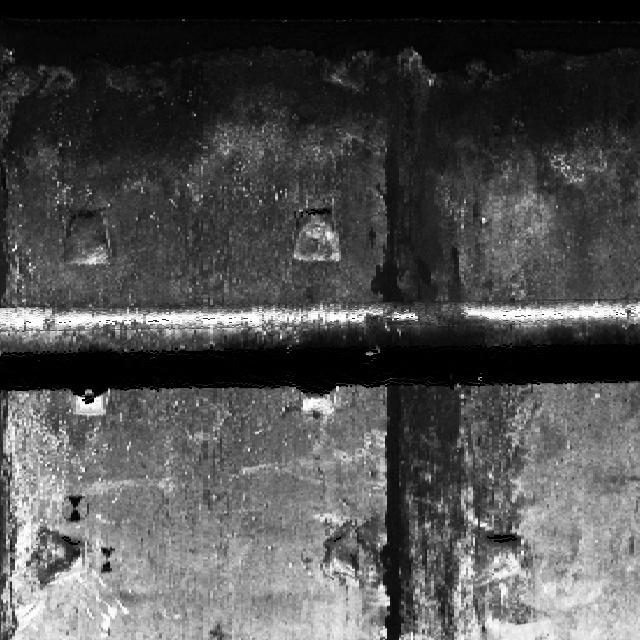leakage: (0, 0, 639, 143), (352, 383, 513, 639), (361, 157, 474, 304)
